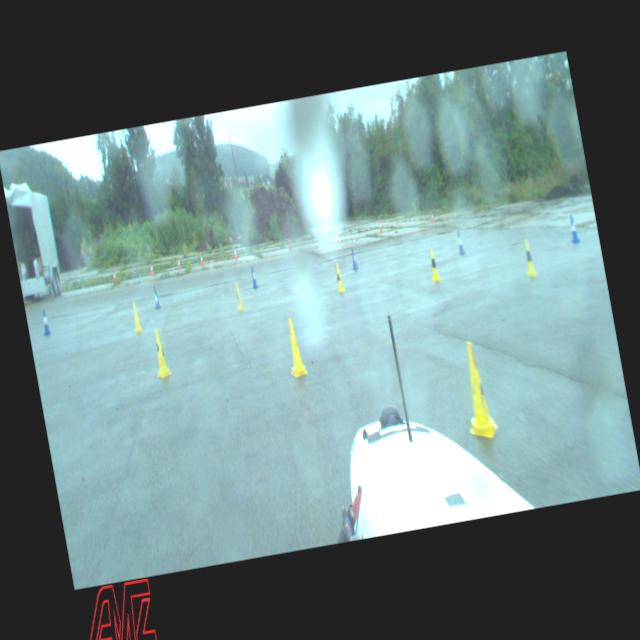blue_cone: (567, 213, 580, 243), (40, 309, 50, 335), (455, 230, 465, 254), (248, 265, 258, 288), (348, 247, 358, 270), (151, 285, 160, 309)
orange_cone: (286, 237, 292, 251), (198, 252, 204, 265), (232, 247, 238, 259), (149, 262, 154, 276), (334, 230, 339, 242), (176, 257, 181, 269), (378, 218, 382, 232), (112, 269, 116, 282), (430, 212, 434, 222)
yellow_cone: (453, 338, 500, 442), (282, 316, 308, 379), (149, 327, 172, 378), (520, 237, 538, 278), (426, 248, 441, 281), (128, 300, 142, 334), (332, 261, 346, 292), (232, 282, 245, 310)
